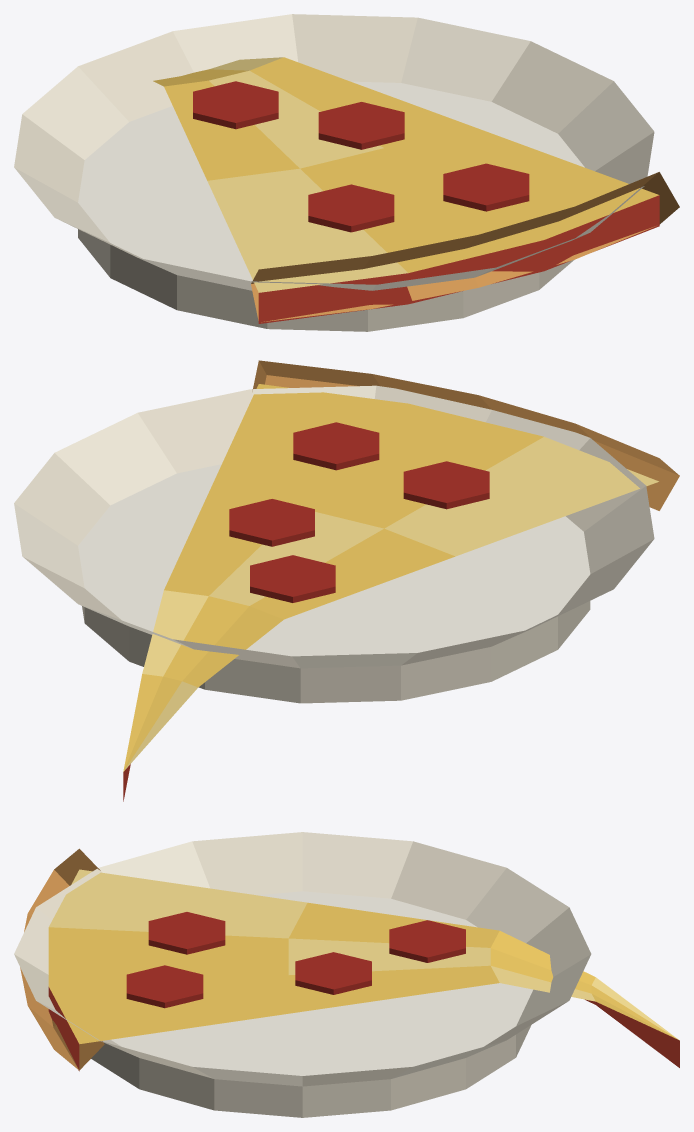
File: lwf_pizza_plate_v1.glb
3 renders of one model, top to bottom at view 1: azimuth 30°, elevation 25°; view 2: azimuth 150°, elevation 25°; view 3: azimuth 270°, elevation 25°, orthographic. The views are drawn at different scales.
Visible parts, largest first — view 1: LWF_PizzaPlateV1; view 2: LWF_PizzaPlateV1; view 3: LWF_PizzaPlateV1.
Boxes of the visible parts, x1,y1,x2,y2 form: LWF_PizzaPlateV1: (14,14,679,331); LWF_PizzaPlateV1: (14,360,679,801); LWF_PizzaPlateV1: (14,832,679,1117).
Bounding box in the file's own units: 0.15 × 0.038 × 0.173.
